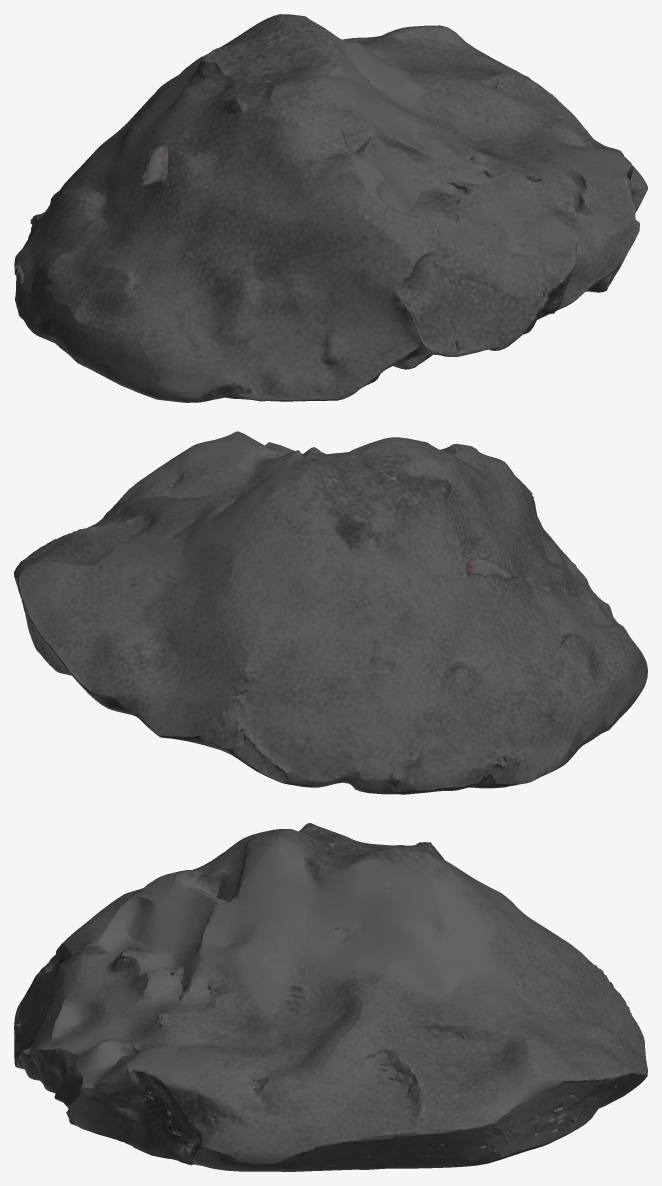
The picture shows the model from 3 angles, top to bottom: view 1: azimuth 30°, elevation 25°; view 2: azimuth 150°, elevation 25°; view 3: azimuth 270°, elevation 25°; orthographic projection. The views are drawn at different scales.
Visible parts, largest first — view 1: world; view 2: world; view 3: world.
Part boxes in pixels (box(x1,y1,x2,y2)): world: box(14, 14, 647, 402); world: box(14, 431, 647, 794); world: box(14, 823, 647, 1171).
Bounding box in the file's own units: 2.5 × 1.12 × 2.5.
Materials: 1 (1 with a texture image).
